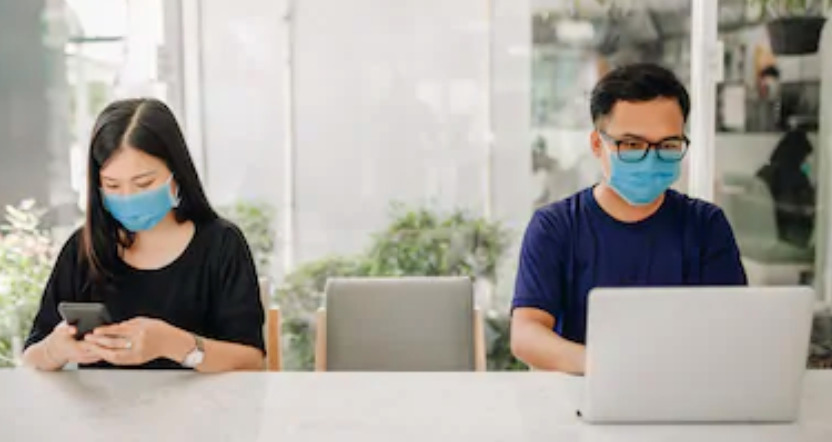Caution: (20, 62, 748, 412)
